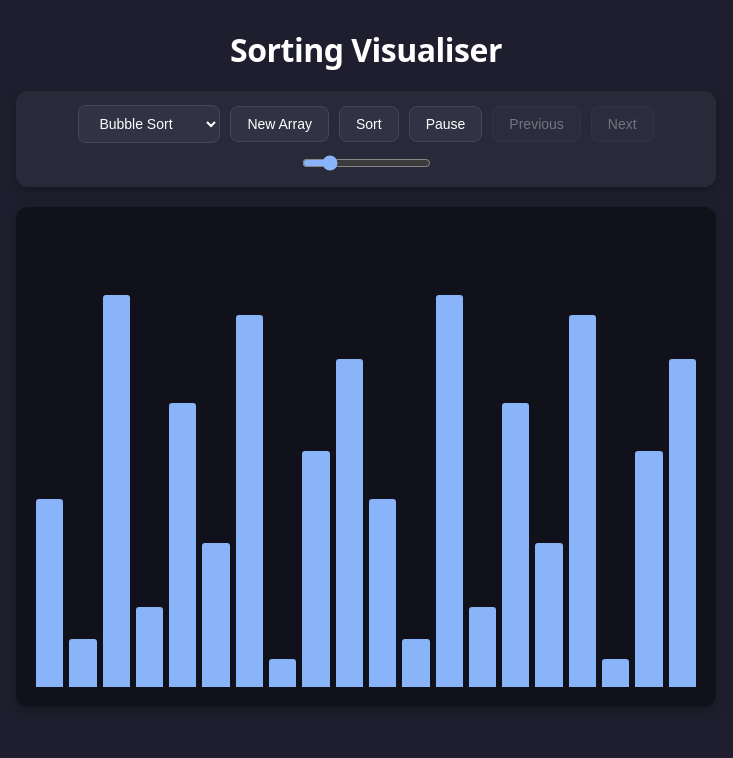
Test: Pause / Play button › pressing Play carries on from where it stopped
The image size is (733, 758).
Click the button "Sort": (369, 124) left=339, top=106, right=399, bottom=142
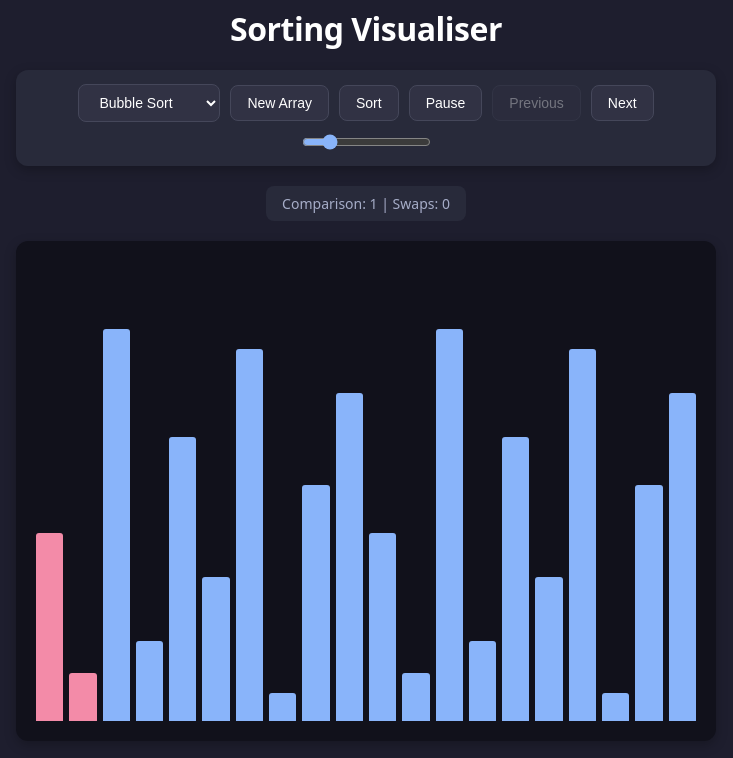
Click the button "Pause": (445, 103) left=409, top=85, right=482, bottom=121
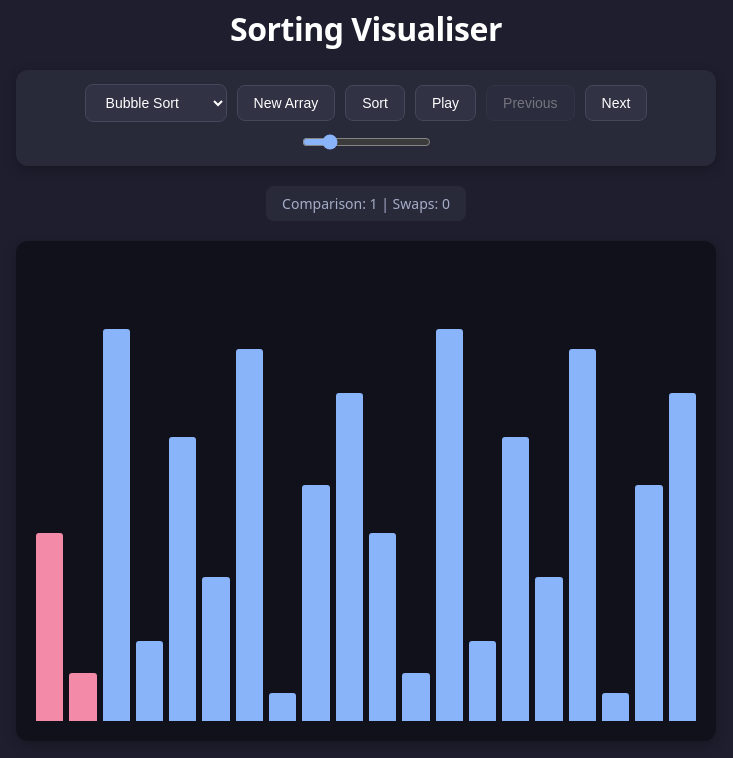
Click the button "Play": (446, 103) left=415, top=85, right=476, bottom=121
Wait 500 ms
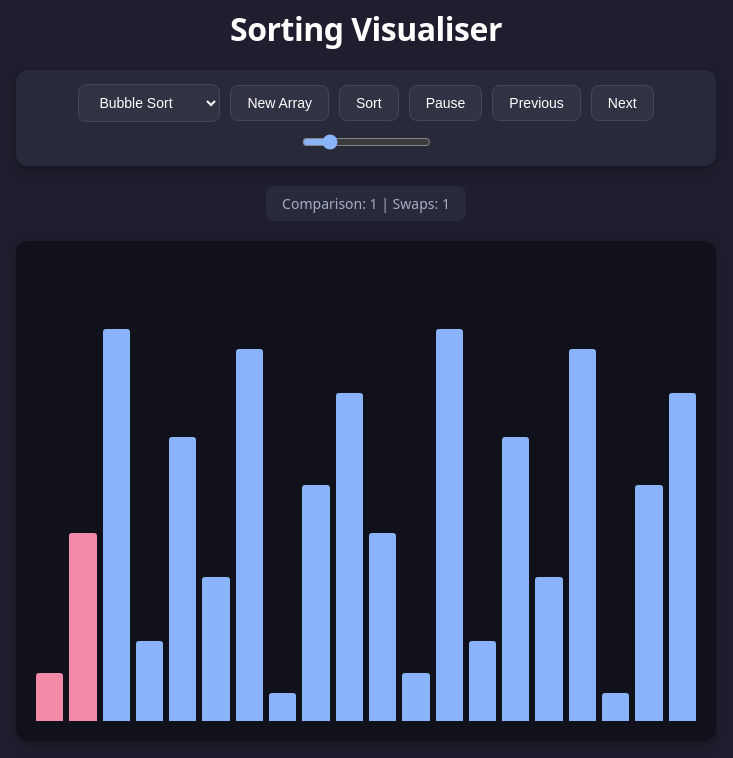
Expected: the element with class "stats" no longer shows "Comparison: 1 | Swaps: 0"
